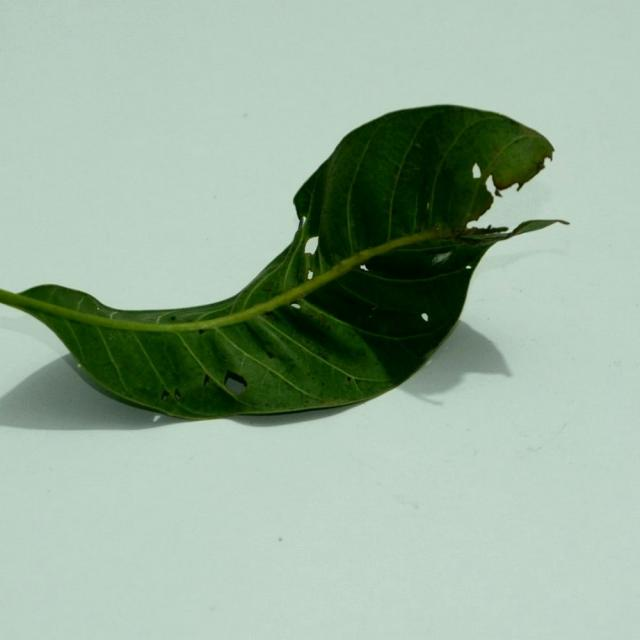Anthracnose: (297, 231, 325, 261), (224, 374, 247, 394), (471, 162, 482, 180), (420, 313, 430, 322), (306, 270, 314, 281), (299, 216, 306, 228), (291, 303, 300, 310), (360, 264, 368, 271)
Mango: (0, 106, 568, 432)
